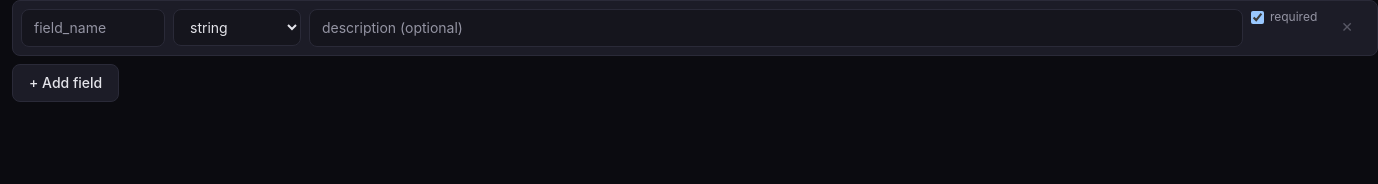
Test: SchemaBuilder › adds a field and enables removal once there are two
The width and height of the screenshot is (1378, 184).
Click the button "+ Add field": (66, 83) [12,64,119,102]
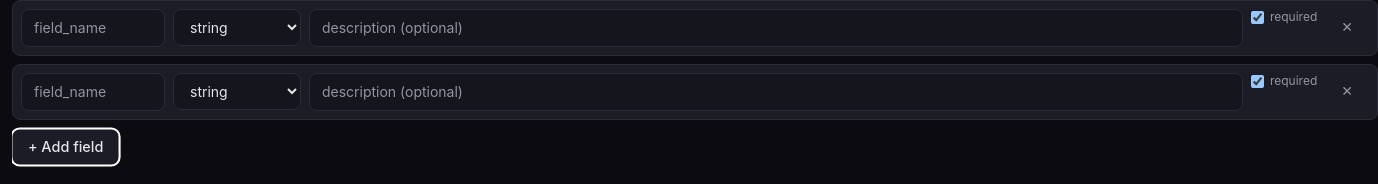
Expected: the number of fields with placeholder "field_name" is 2, [21,9,165,47]; [21,73,165,111]
Expected: the button named "remove field 1" is enabled, [1325,9,1369,45]
Expected: the button named "remove field 2" is enabled, [1325,73,1369,109]
